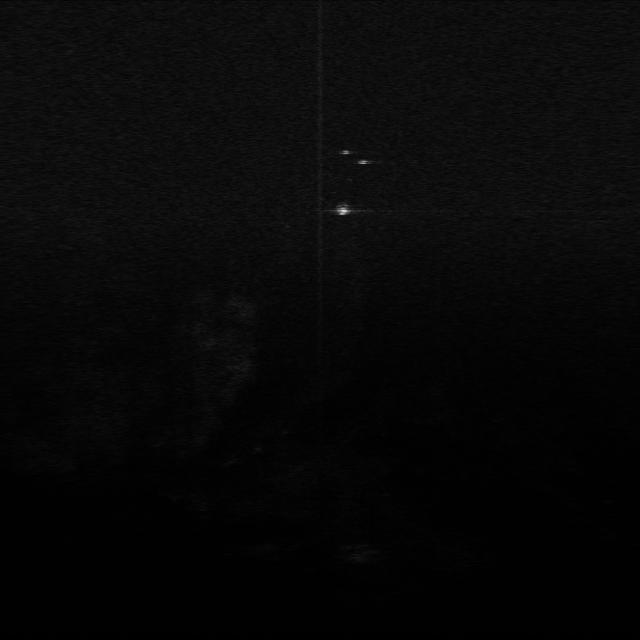rov: (332, 202, 354, 219)
